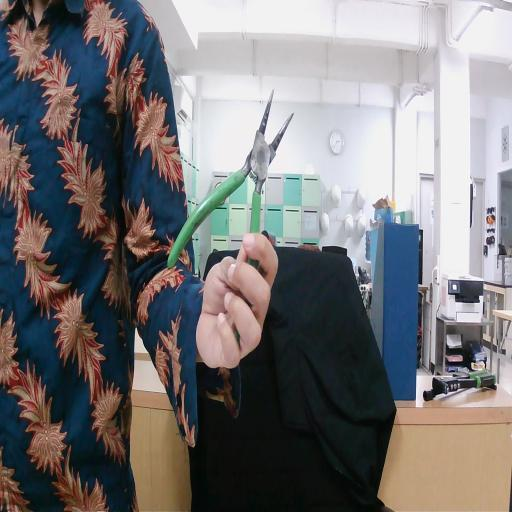tang_scun_hidrolik: (168, 90, 293, 370)
